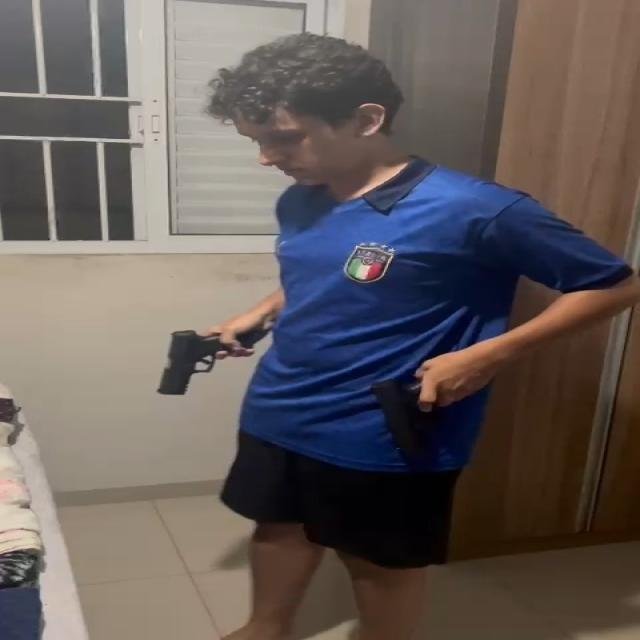gun: (156, 329, 254, 397), (370, 378, 448, 456)
